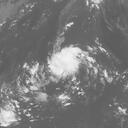cyclone: (46, 44, 85, 81)
